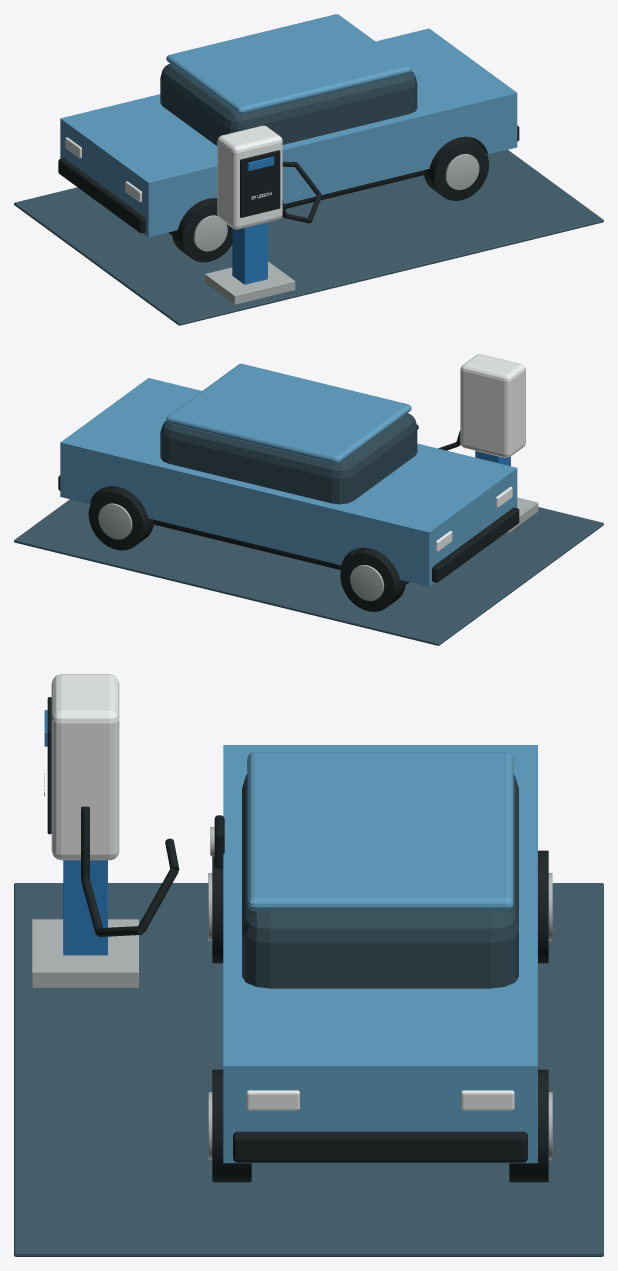
The model's file is ev_charger_bay.glb.
3 views of the same model, one above another, from view 1: azimuth 30°, elevation 25°; view 2: azimuth 150°, elevation 25°; view 3: azimuth 270°, elevation 25° (orthographic). The views are drawn at different scales.
Visible parts, largest first — view 1: EV_BAY_ground_pad, EV_BODY, EV_roof, EV_cabin, EVSE_housing, EVSE_front_panel, EV_tire_1.45_-0.83, EVSE_pedestal, EVSE_base, EV_tire_-1.45_-0.83, EV_bumper_-2.13, EV_hub_1.45_-0.83 (+2 smaller); view 2: EV_BODY, EV_BAY_ground_pad, EV_roof, EV_cabin, EVSE_housing, EV_tire_-1.45_0.83, EV_tire_1.45_0.83, EV_bumper_-2.13, EV_chassis, EV_hub_1.45_0.83, EV_hub_-1.45_0.83, EVSE_base; view 3: EV_BAY_ground_pad, EV_BODY, EV_roof, EV_cabin, EVSE_housing, EV_bumper_2.13, EVSE_base, EVSE_pedestal, EV_tire_1.45_-0.83, EV_tire_1.45_0.83, EV_tire_-1.45_0.83, EV_tire_-1.45_-0.83 (+2 smaller).
Boxes of the visible parts, <box> form: EV_BAY_ground_pad: <box>14,149,603,325</box>; EV_BODY: <box>60,28,517,237</box>; EV_roof: <box>166,14,411,114</box>; EV_cabin: <box>160,63,417,145</box>; EVSE_housing: <box>217,125,282,229</box>; EVSE_front_panel: <box>240,150,280,217</box>; EV_tire_1.45_-0.83: <box>424,136,489,200</box>; EVSE_pedestal: <box>232,222,267,284</box>; EVSE_base: <box>205,261,295,304</box>; EV_tire_-1.45_-0.83: <box>172,198,232,262</box>; EV_bumper_-2.13: <box>58,158,145,233</box>; EV_hub_1.45_-0.83: <box>445,154,479,189</box>; EV_BODY: <box>60,378,517,586</box>; EV_BAY_ground_pad: <box>14,499,603,645</box>; EV_roof: <box>166,363,411,463</box>; EV_cabin: <box>160,413,417,504</box>; EVSE_housing: <box>460,354,525,457</box>; EV_tire_-1.45_0.83: <box>340,547,405,611</box>; EV_tire_1.45_0.83: <box>88,486,153,550</box>; EV_bumper_-2.13: <box>432,507,519,582</box>; EV_chassis: <box>99,486,409,584</box>; EV_hub_1.45_0.83: <box>98,503,132,539</box>; EV_hub_-1.45_0.83: <box>350,565,384,600</box>; EVSE_base: <box>506,497,538,533</box>; EV_BAY_ground_pad: <box>14,883,603,1256</box>; EV_BODY: <box>223,745,537,1163</box>; EV_roof: <box>247,752,513,911</box>; EV_cabin: <box>242,774,518,988</box>; EVSE_housing: <box>51,674,119,860</box>; EV_bumper_2.13: <box>233,1131,527,1162</box>; EVSE_base: <box>32,919,138,987</box>; EVSE_pedestal: <box>63,860,107,955</box>; EV_tire_1.45_-0.83: <box>212,1069,251,1182</box>; EV_tire_1.45_0.83: <box>509,1069,548,1182</box>; EV_tire_-1.45_0.83: <box>538,850,548,963</box>; EV_tire_-1.45_-0.83: <box>212,856,223,963</box>.
Bounding box in the file's own units: 4.9 × 1.69 × 3.3.
